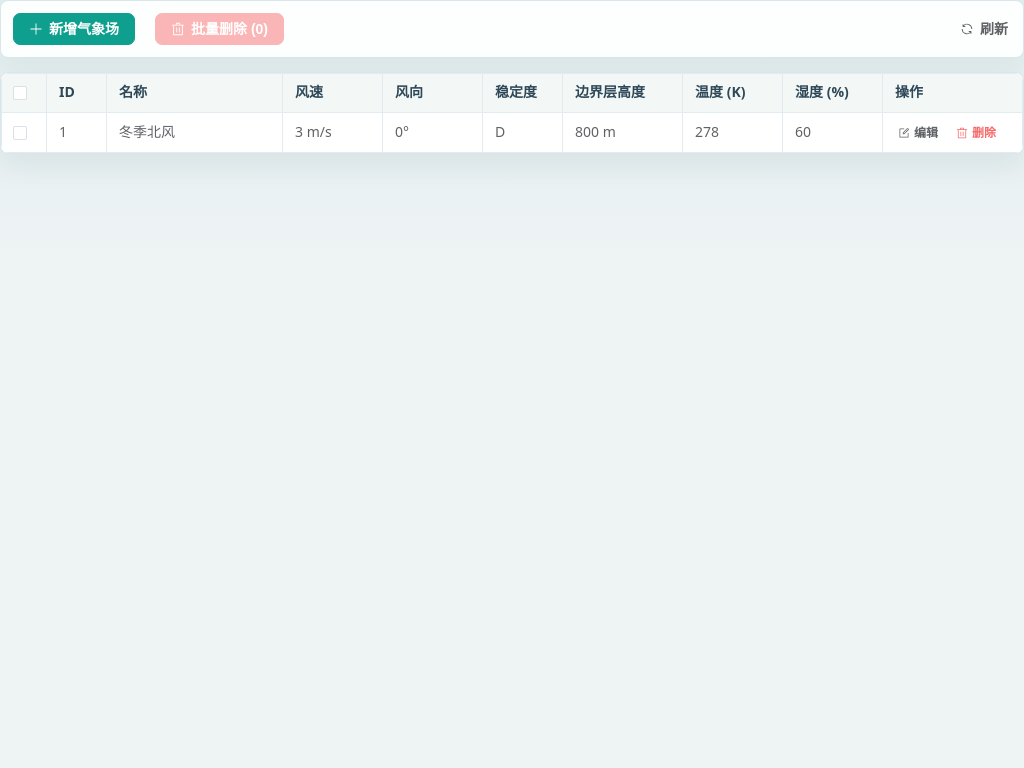
Test: MeteorologyView › 新增按钮打开对话框_含6档稳定度
Step 1. Click the button "新增气象场" → click(74, 29), box [13,13,135,45]
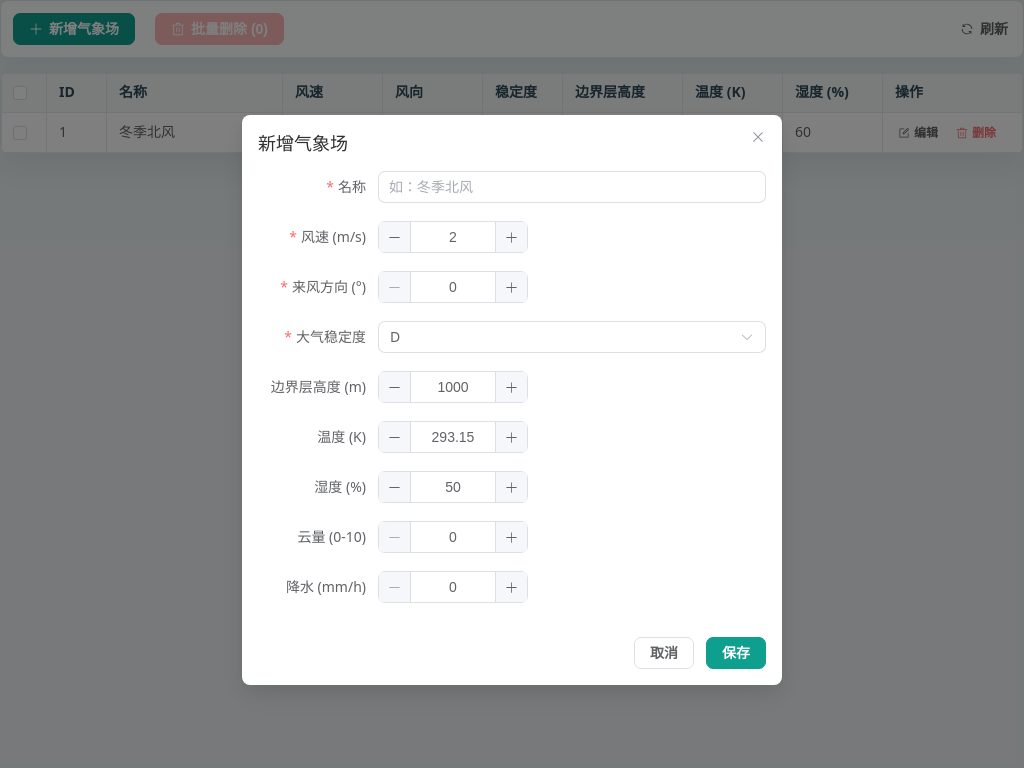
Now the text "新增气象场" is shown, box [258,131,348,155]
Now the text "来风方向" is shown, box [292,277,366,296]
